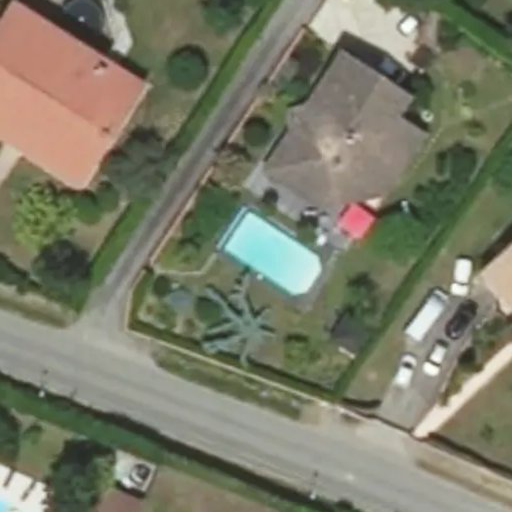pool: (205, 234, 309, 253)
